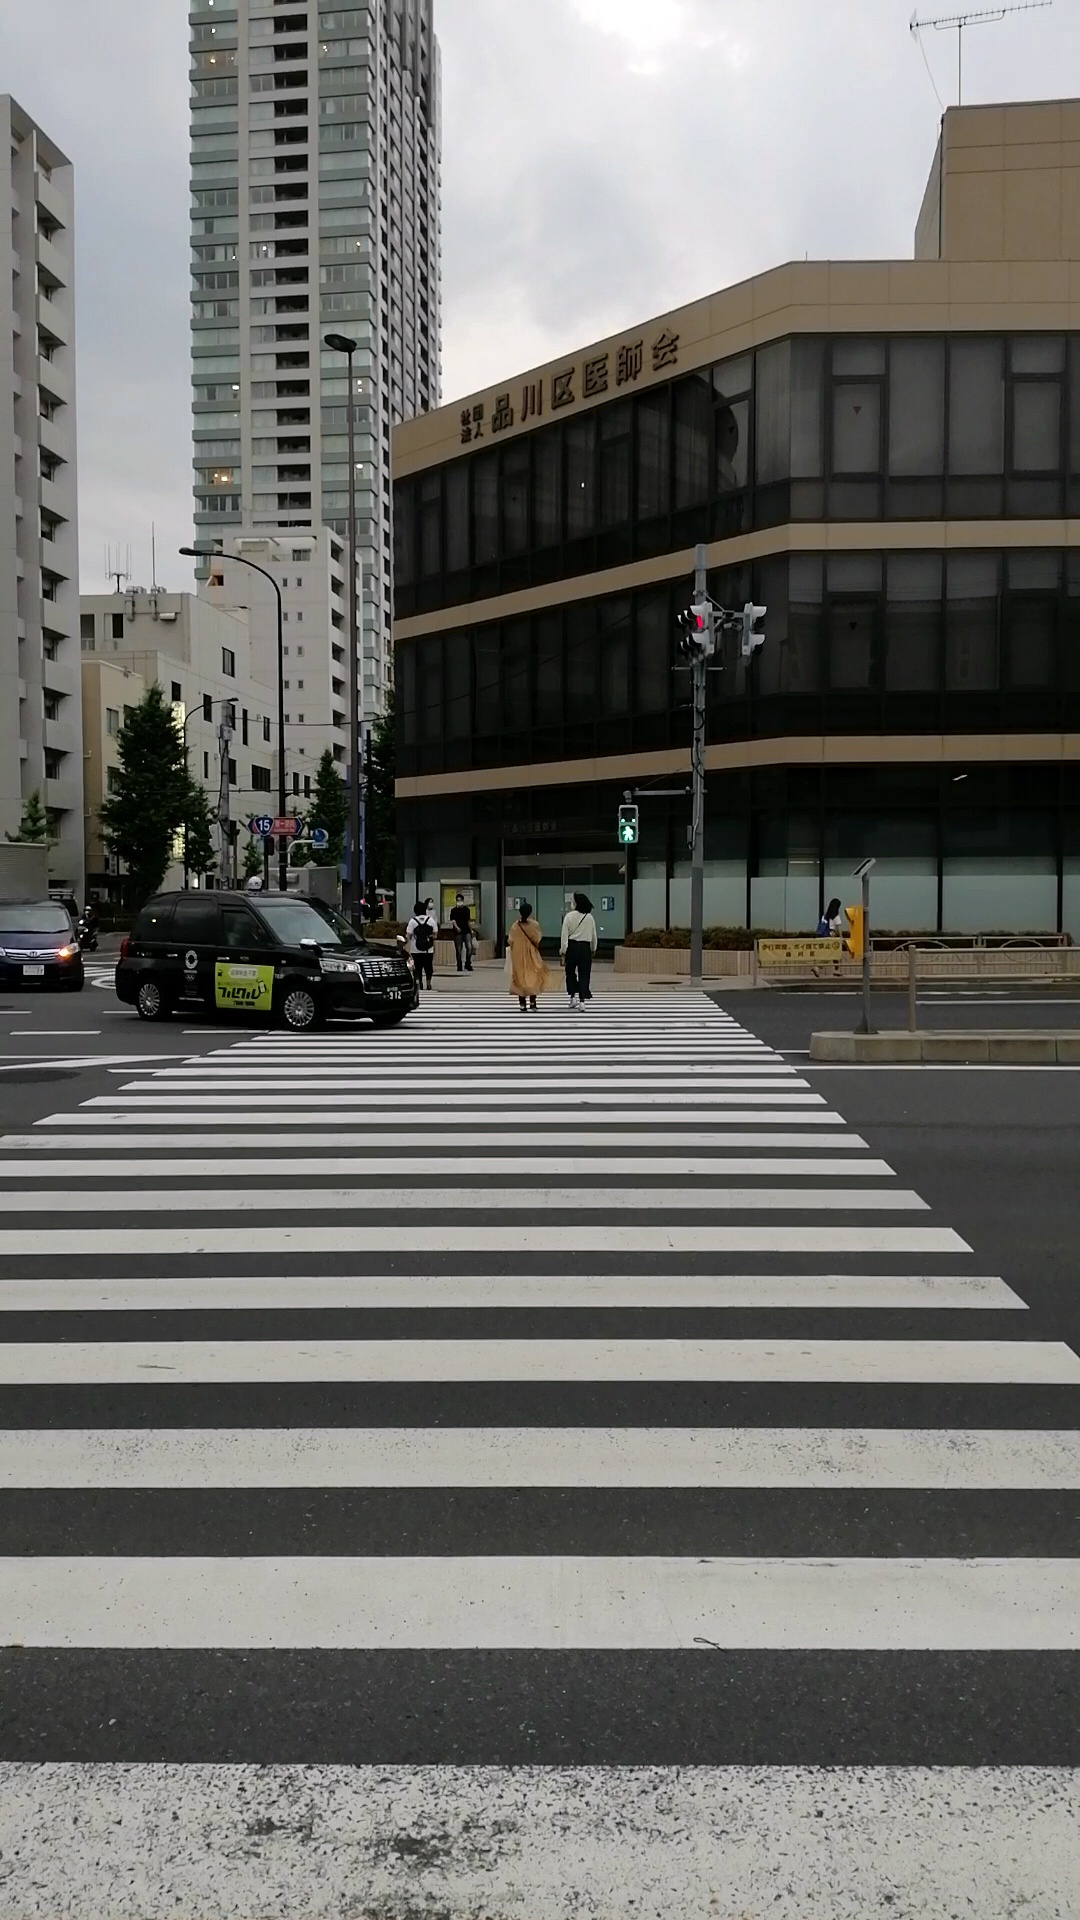green: (616, 804, 638, 844)
